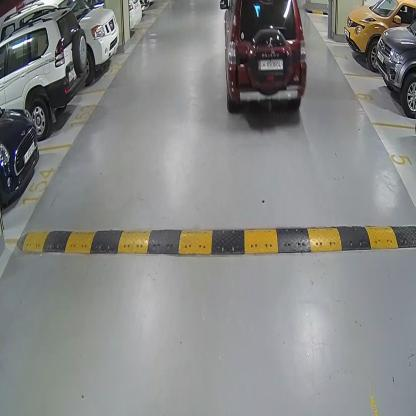np: (258, 58, 282, 71)
